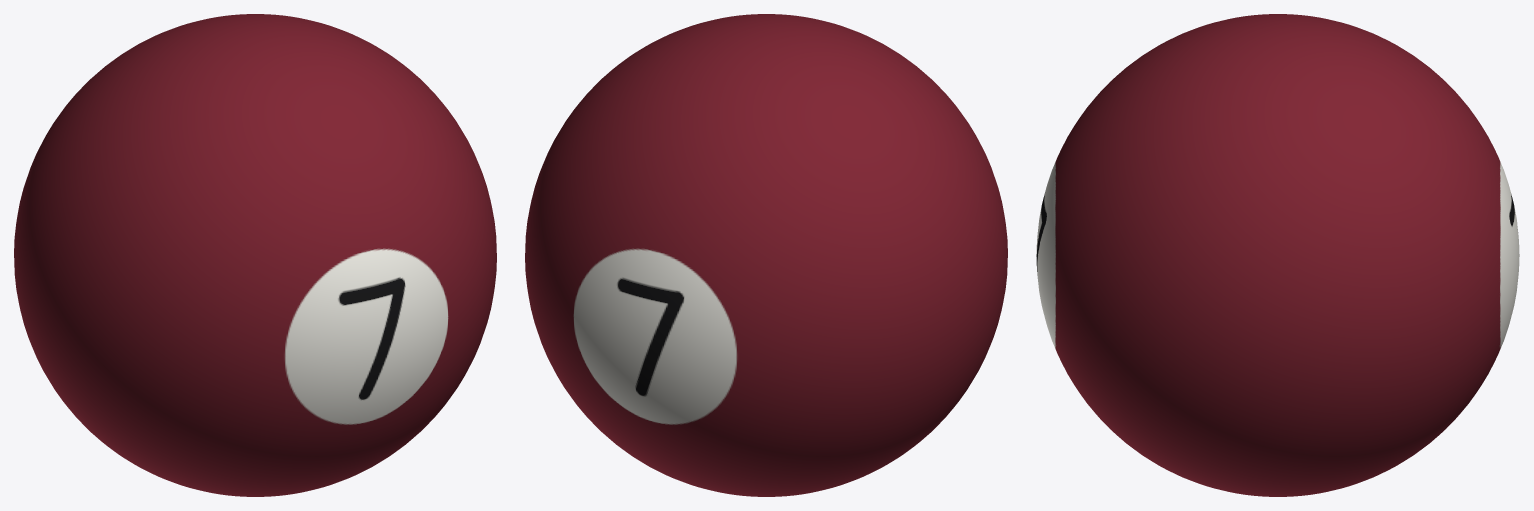
File: ball-07.gltf
3 views of the same model, side by side, from view 1: azimuth 30°, elevation 25°; view 2: azimuth 150°, elevation 25°; view 3: azimuth 270°, elevation 25° (orthographic).
Visible parts, largest first — view 1: Ball_07; view 2: Ball_07; view 3: Ball_07.
Boxes of the visible parts, bbox=[...] form: Ball_07: bbox=[14, 14, 496, 496]; Ball_07: bbox=[525, 14, 1007, 496]; Ball_07: bbox=[1036, 14, 1519, 496].
Size of the model in its own units: 0.1 by 0.1 by 0.1.
Materials: 1 (1 with a texture image).
